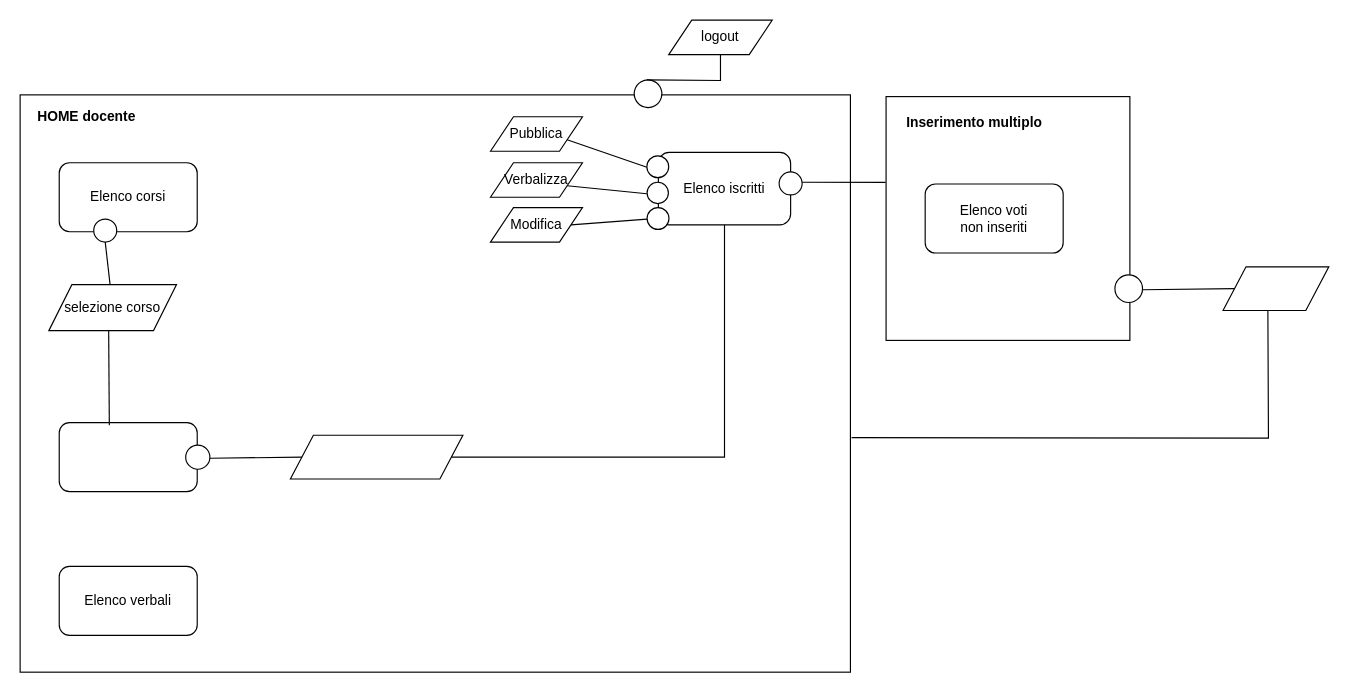
Image size: 1349x692. Some labels were removed from this diagram. Each missing label, with the centre of its shape:
Elenco appelli: the point at 127,456
invia: the point at 1275,288
selezione appello: the point at 376,456
